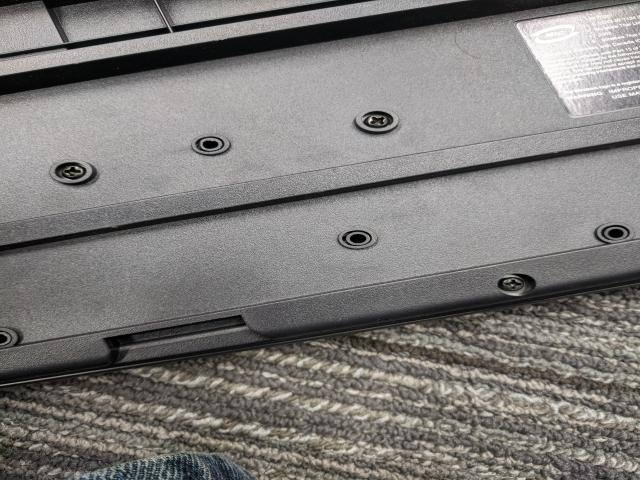CRS: (60, 164, 89, 178), (500, 278, 527, 292), (362, 114, 390, 127)
